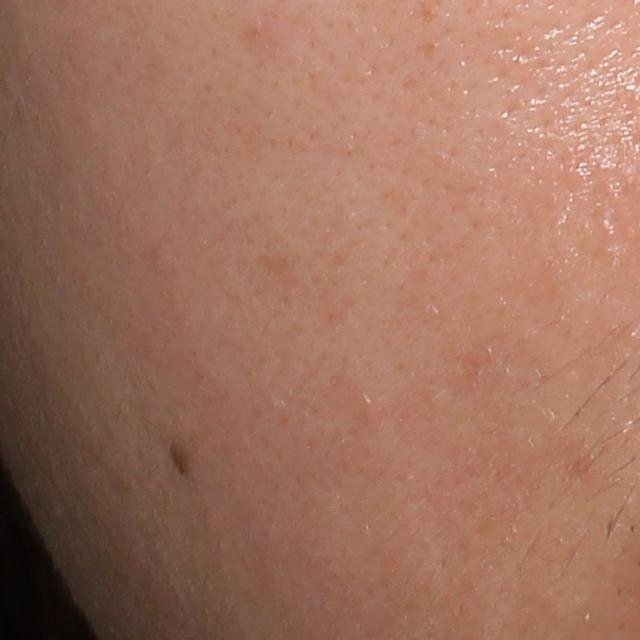nevus: (164, 441, 195, 485)
